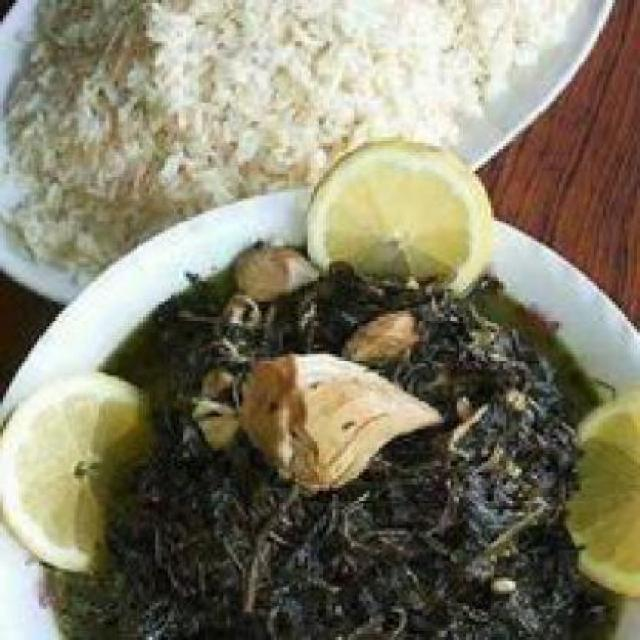molokhia: (47, 226, 616, 637)
